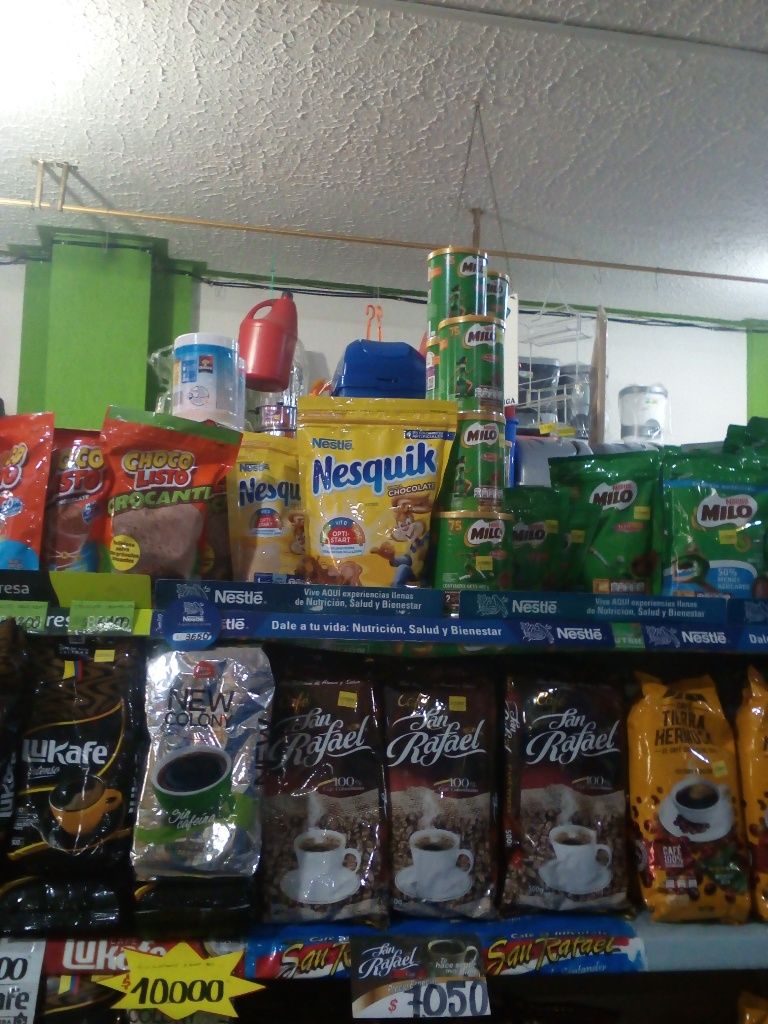COL0170102DYP25000: (96, 399, 238, 591)
COL0170104DYP20000: (2, 410, 61, 573)
COL0170203DYP10000: (507, 475, 561, 589)
COL0170203DYP25000: (546, 456, 662, 595)
COL0170203LAT20000: (445, 412, 512, 510)
COL0170203LAT40000: (431, 500, 513, 592)
COL0170205DYP20000: (662, 449, 765, 598)
COL0170306DYP20000: (220, 423, 323, 586)
